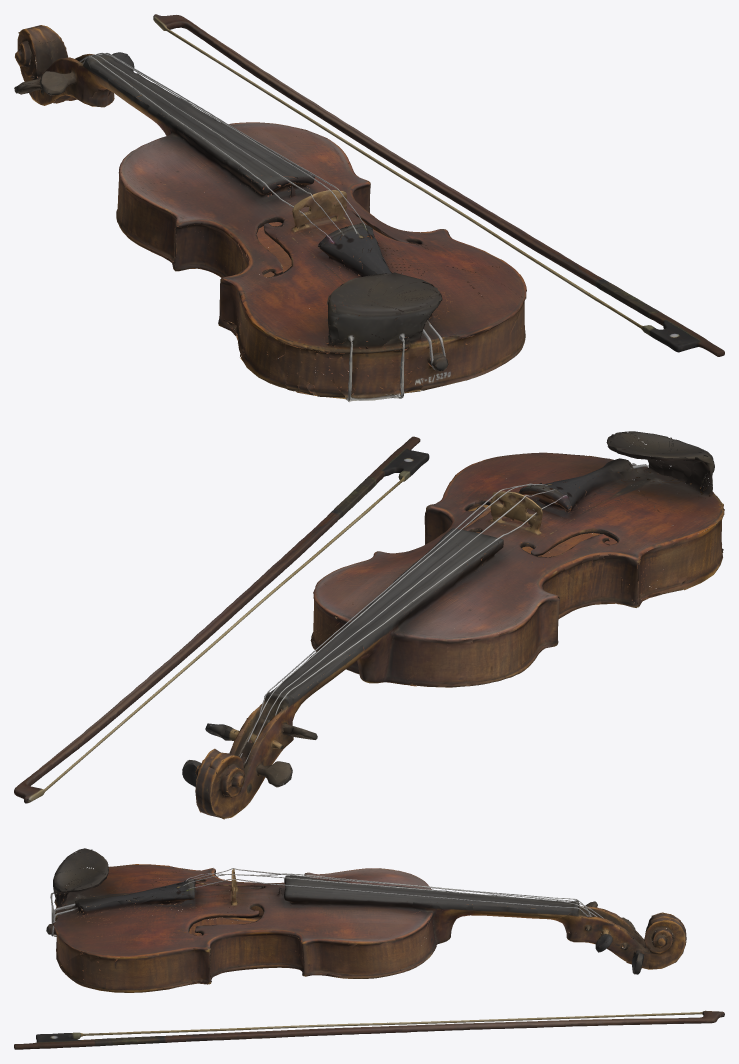
Rendered from violin-web-anchors.glb.
3 views of the same model, one above another, from view 1: azimuth 30°, elevation 25°; view 2: azimuth 150°, elevation 25°; view 3: azimuth 270°, elevation 25° (orthographic). The views are drawn at different scales.
Parts seen in each view (by area): view 1: Object_5, Object_4, Object_6, Object_2, Object_3; view 2: Object_5, Object_4, Object_6, Object_2, Object_3; view 3: Object_4, Object_5, Object_2, Object_3, Object_6.
Boxes of the visible parts, x1,y1,x2,y2 form: Object_5: (14, 25, 526, 402); Object_4: (75, 54, 526, 400); Object_6: (135, 16, 524, 401); Object_2: (79, 14, 724, 401); Object_3: (154, 15, 724, 355); Object_5: (182, 431, 712, 819); Object_4: (207, 454, 688, 758); Object_6: (27, 432, 724, 802); Object_2: (14, 436, 713, 803); Object_3: (14, 440, 561, 797); Object_4: (68, 868, 633, 992); Object_5: (46, 848, 686, 991); Object_2: (14, 858, 724, 1049); Object_3: (14, 919, 721, 1049); Object_6: (50, 849, 720, 1015).
Bounding box in the file's own units: 0.2832 × 0.0851 × 0.6112.
Materials: 1 (1 with a texture image).
